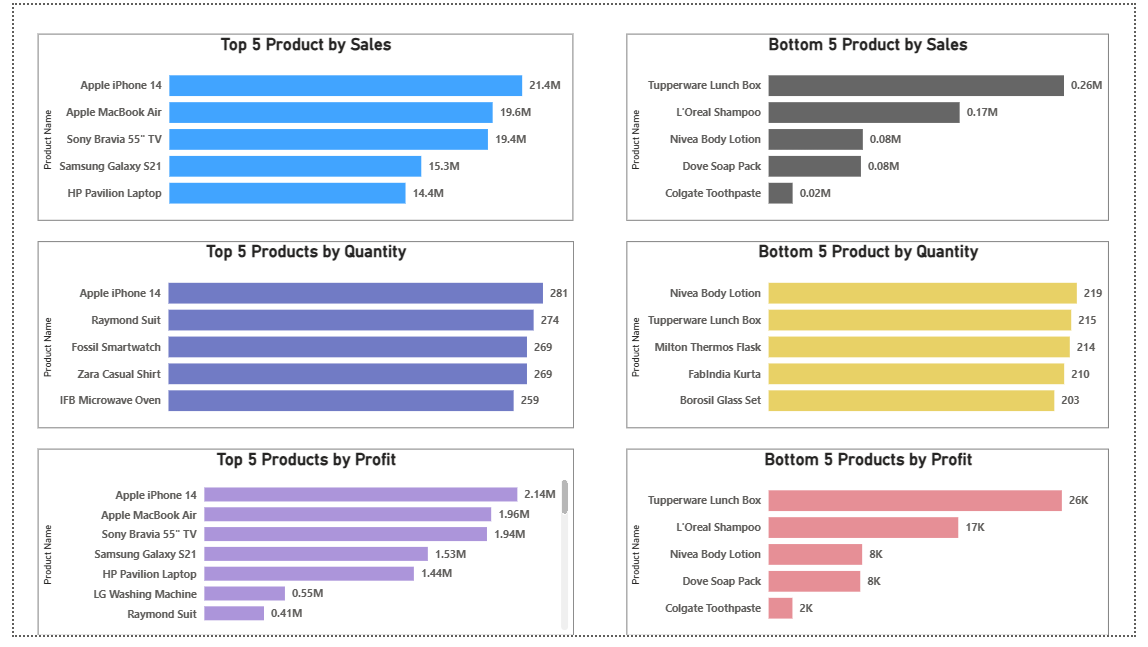

What the dashboard file says about the page in this screenshot:
{"tool":"powerbi","page":{"name":"Top/Bottom 5 Analysis","canvas":[1280,720],"ordinal":0},"visuals":[{"type":"barChart","title":"Top 5  Product by Sales","fields":{"Y":["Sum(Fact  Table.Net sales)"],"Category":["Dim Product.Product Name"]},"box":[27.5,32.5,612,213.6],"z":0},{"type":"barChart","title":" Bottom 5  Product by Sales","fields":{"Y":["Sum(Fact  Table.Net sales)"],"Category":["Dim Product.Product Name"]},"box":[700.7,32.5,550.8,213.6],"z":1000},{"type":"barChart","title":"Top 5 Products by Quantity","fields":{"Category":["Dim Product.Product Name"],"Y":["Sum(Fact  Table.Units Sold)"]},"box":[26.9,270.4,612.5,213.6],"z":2000},{"type":"barChart","title":"Bottom 5 Product by Quantity","fields":{"Y":["Sum(Fact  Table.Units Sold)"],"Category":["Dim Product.Product Name"]},"box":[700.7,270.4,551.3,213.6],"z":3000},{"type":"barChart","title":"Top 5 Products by Profit","fields":{"Category":["Dim Product.Product Name"],"Y":["Sum(Fact  Table. profit)"]},"box":[26.9,506.4,612.5,213.6],"z":4000},{"type":"barChart","title":"Bottom 5 Products by Profit","fields":{"Category":["Dim Product.Product Name"],"Y":["Sum(Fact  Table. profit)"]},"box":[700.7,506.4,551.3,213.6],"z":5000}]}

Visuals, with their boxes in screenshot pixels (x1, y1, x2, y2), scaled from the page's 1280x720 canvas onto the 1148x647 screenshot:
"Top 5  Product by Sales" barChart: [25, 29, 574, 221]
" Bottom 5  Product by Sales" barChart: [628, 29, 1122, 221]
"Top 5 Products by Quantity" barChart: [24, 243, 573, 435]
"Bottom 5 Product by Quantity" barChart: [628, 243, 1123, 435]
"Top 5 Products by Profit" barChart: [24, 455, 573, 646]
"Bottom 5 Products by Profit" barChart: [628, 455, 1123, 646]
